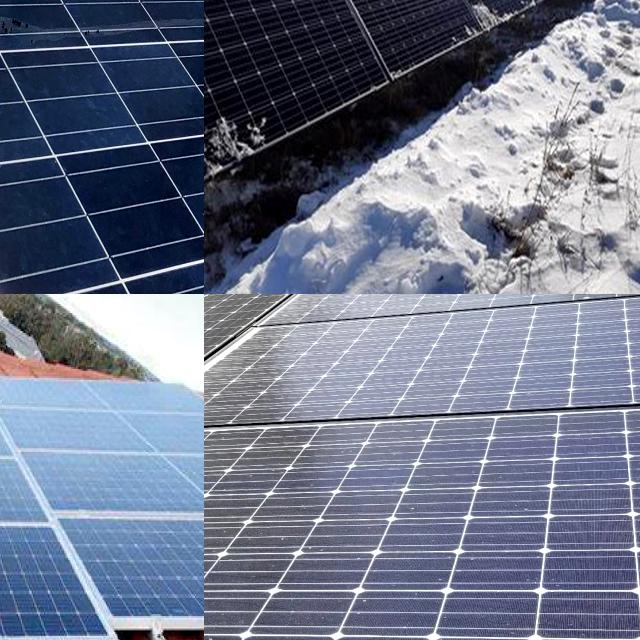crack: (0, 509, 159, 640), (0, 519, 139, 640)
dust: (0, 0, 169, 194), (408, 402, 640, 539), (421, 294, 603, 402), (460, 557, 640, 640), (225, 575, 420, 640), (204, 294, 297, 400), (284, 294, 407, 318)
panel: (204, 105, 275, 237), (448, 0, 567, 37), (204, 0, 303, 26), (318, 0, 428, 16), (436, 0, 516, 16), (574, 0, 624, 21), (535, 0, 582, 17), (495, 0, 543, 15), (621, 0, 640, 18)
